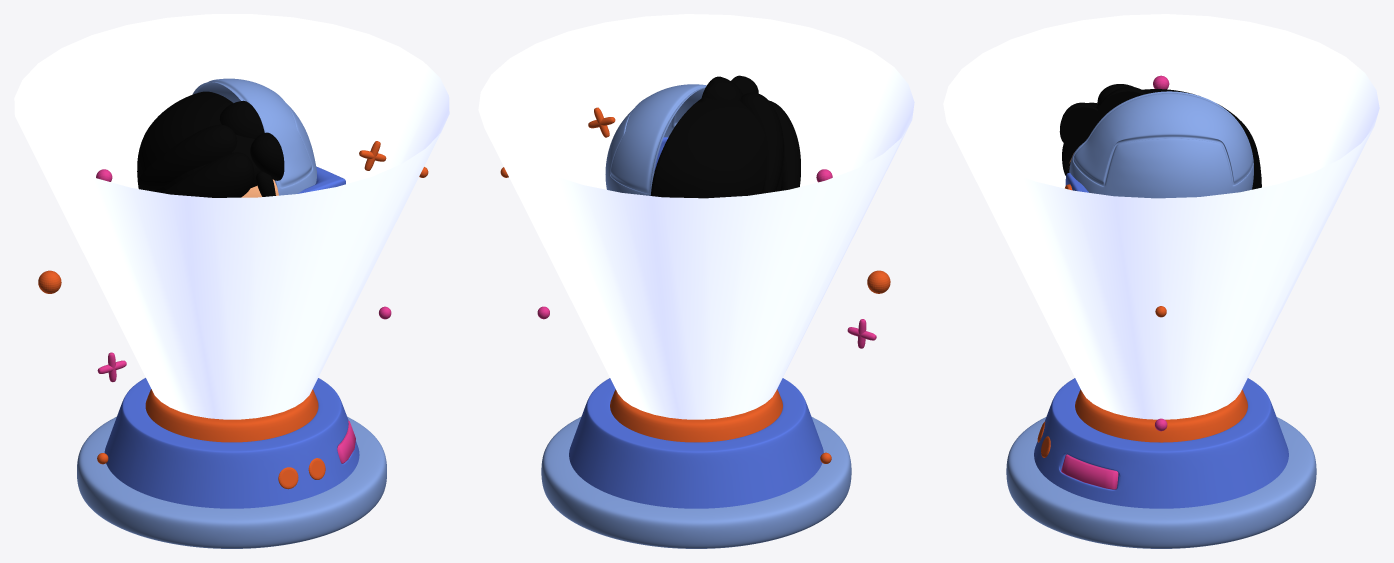
The model's file is hologram-3d-animated-icon-1570496087492.glb.
3 views of the same model, side by side, from view 1: azimuth 30°, elevation 25°; view 2: azimuth 150°, elevation 25°; view 3: azimuth 270°, elevation 25° (orthographic).
Parts seen in each view (by area): view 1: screen hologram, machine tech, hologram.004, hologram, hologram.014; view 2: screen hologram, machine tech, hologram.004, hologram; view 3: screen hologram, machine tech, hologram, hologram.004.
Boxes of the visible parts, x1=… form: screen hologram: x1=14, y1=14, x2=449, y2=419; machine tech: x1=77, y1=378, x2=386, y2=548; hologram.004: x1=137, y1=91, x2=284, y2=197; hologram: x1=192, y1=78, x2=316, y2=195; hologram.014: x1=298, y1=166, x2=345, y2=193; screen hologram: x1=478, y1=14, x2=914, y2=419; machine tech: x1=541, y1=378, x2=851, y2=548; hologram.004: x1=650, y1=75, x2=800, y2=198; hologram: x1=605, y1=84, x2=706, y2=195; screen hologram: x1=943, y1=14, x2=1379, y2=419; machine tech: x1=1006, y1=378, x2=1316, y2=548; hologram: x1=1069, y1=91, x2=1253, y2=198; hologram.004: x1=1059, y1=84, x2=1261, y2=189.
Size of the model in its own units: 4.81 by 4.72 by 4.69.
